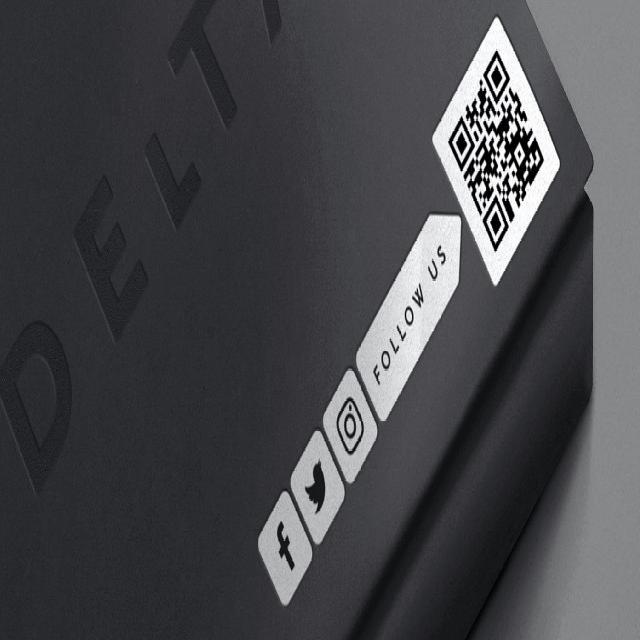qr_code: (446, 50, 545, 253)
